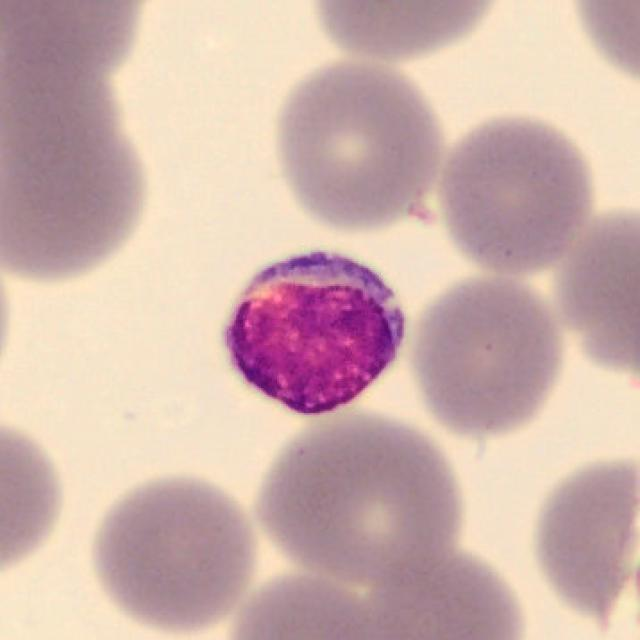Linfocito: (222, 250, 406, 417)
